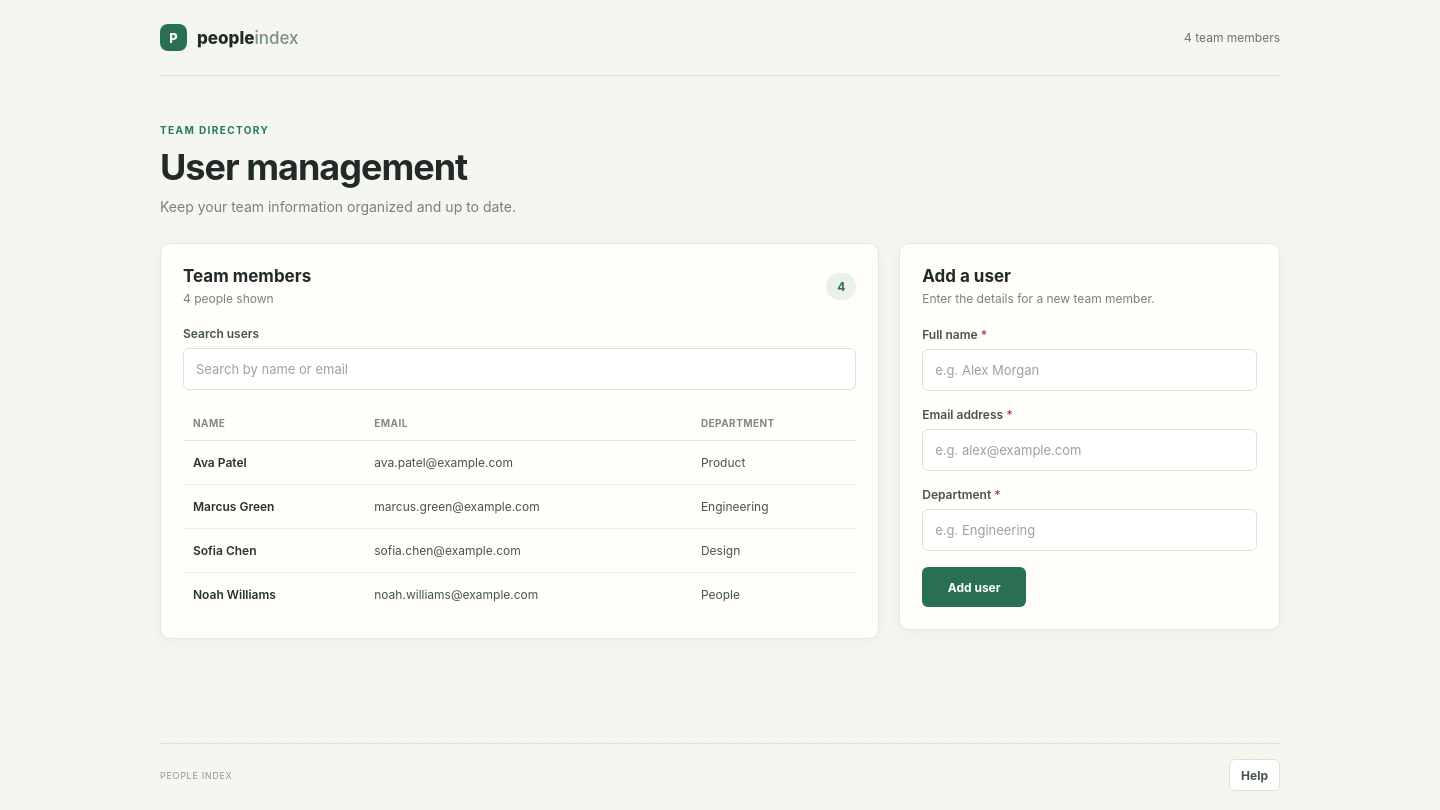
Test: user management › adds a valid user to the directory and resets the form
Type "Jamie Rivera" into the field labelled "Full name" at (1090, 370), box [922, 349, 1257, 391]
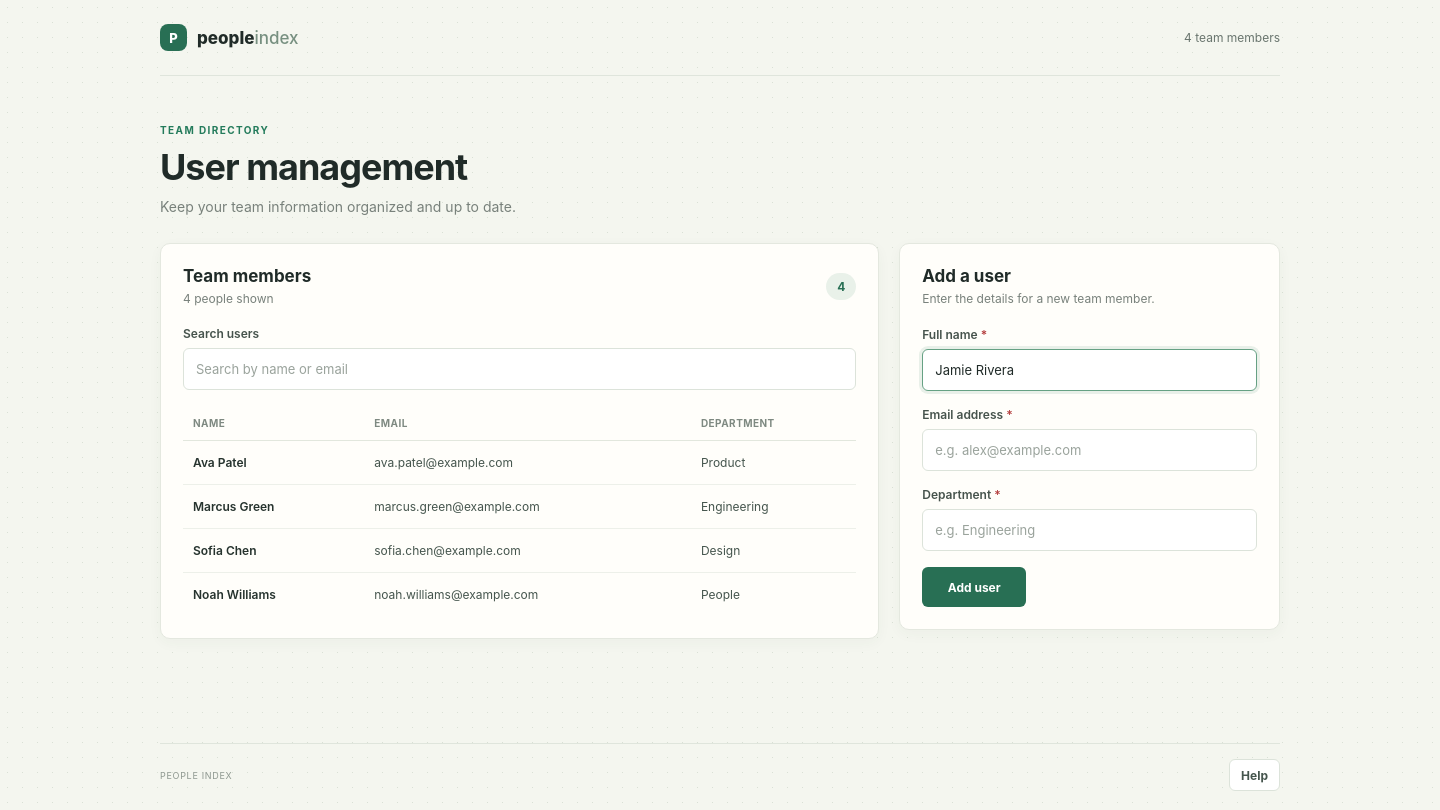
Type "jamie@example.com" into the field labelled "Email address" at (1090, 450), box [922, 429, 1257, 471]
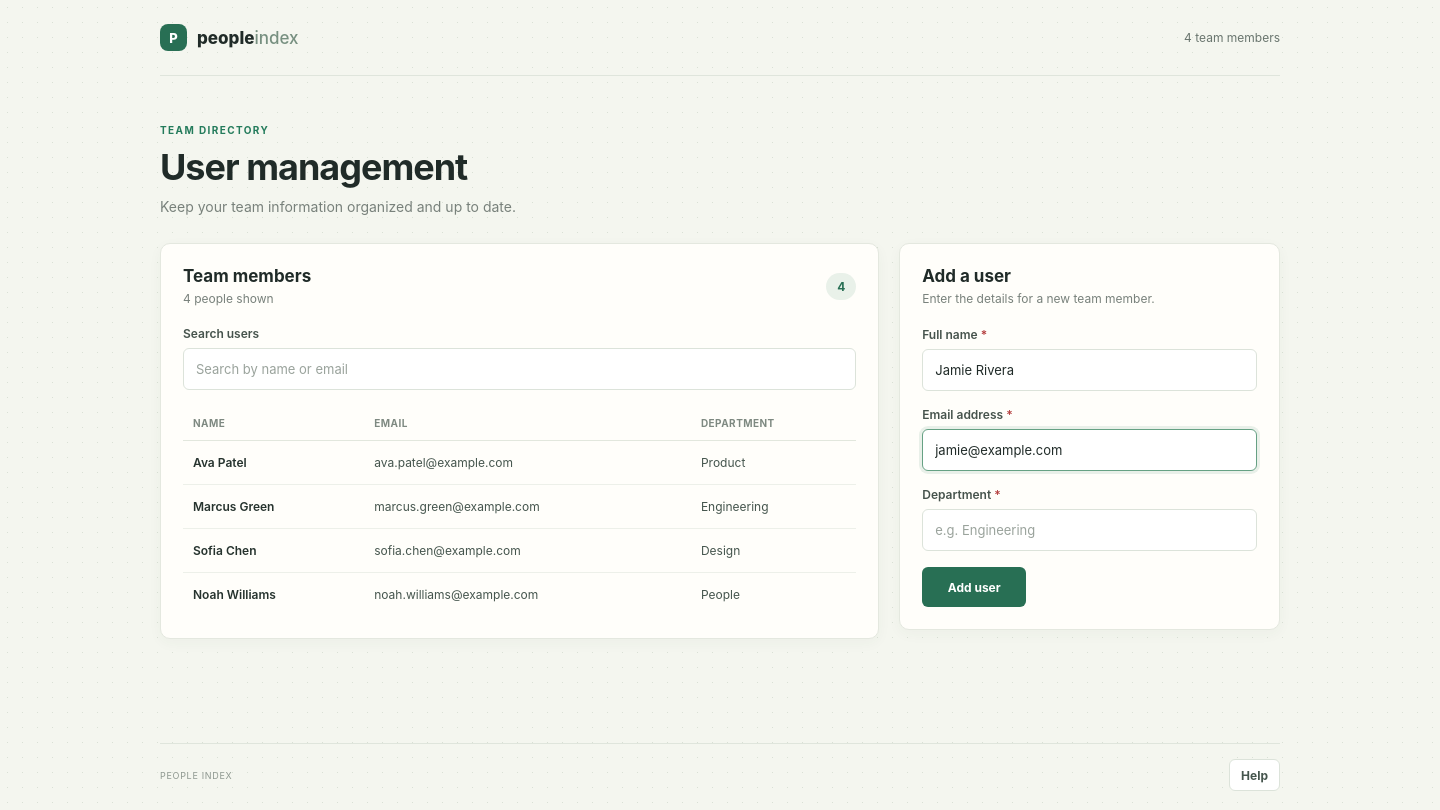
Type "Support" into the field labelled "Department" at (1090, 530), box [922, 509, 1257, 551]
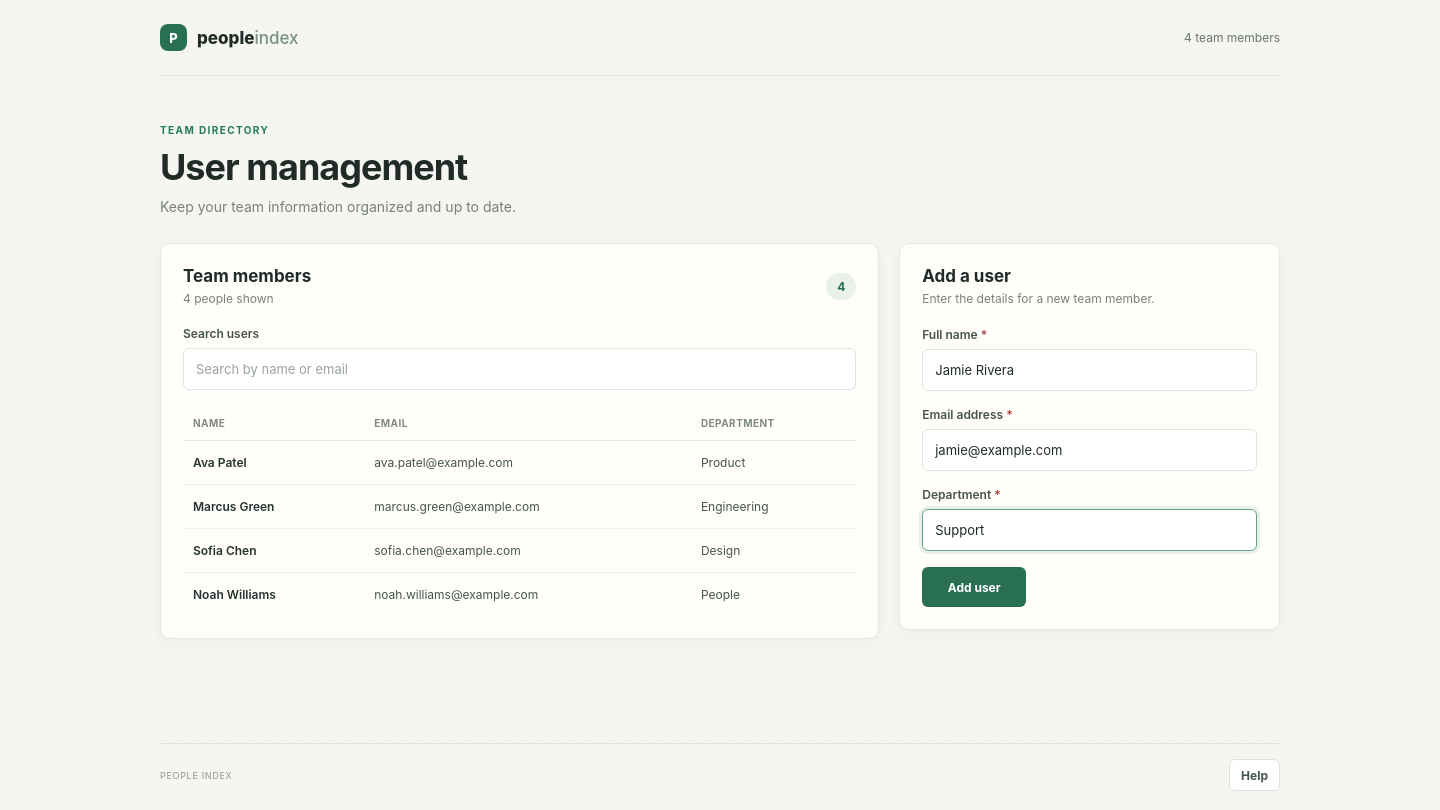
Click the button "Add user" at (974, 587), box [922, 567, 1026, 607]
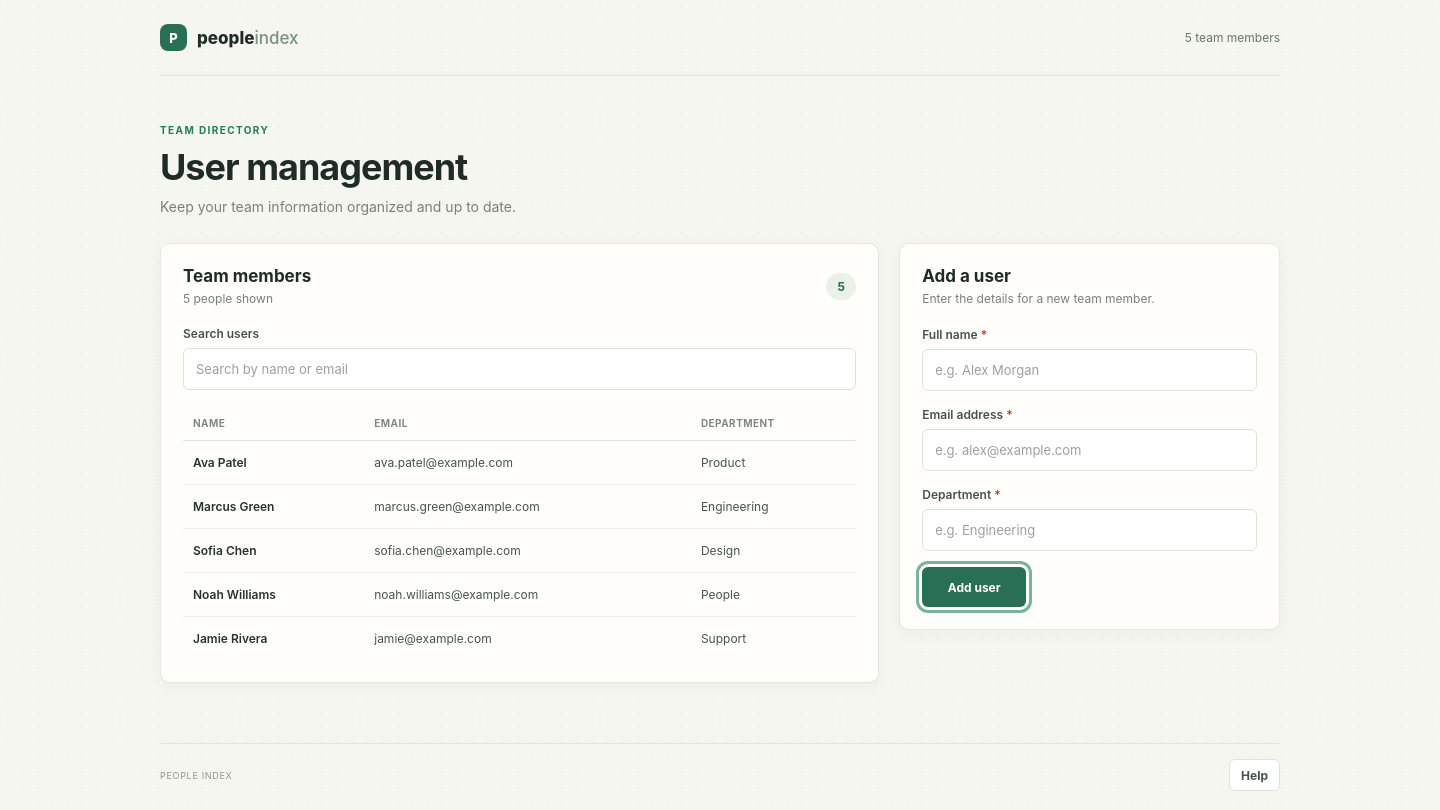
Expected: the row "Jamie Rivera jamie@example.com Support" is shown, [183, 616, 856, 660]
Expected: the field labelled "Full name" is empty, [922, 349, 1257, 391]
Expected: the text "5" is shown, [826, 272, 856, 300]
